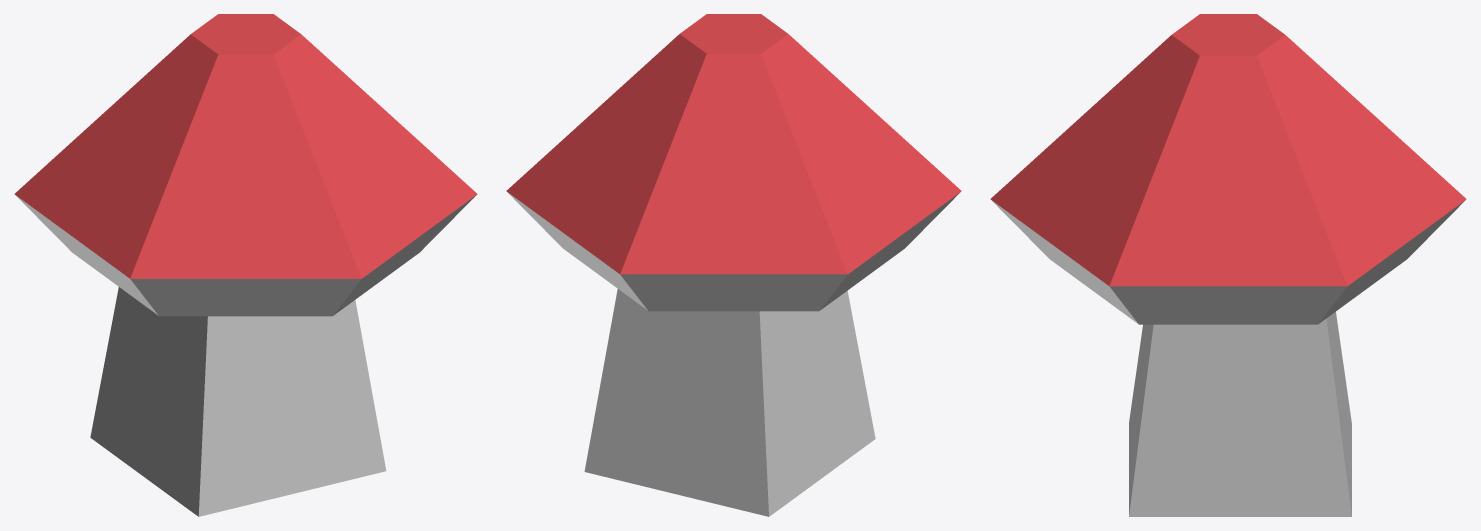
Rendered from mushroom.glb.
The picture shows the model from 3 angles, left to right: view 1: azimuth 30°, elevation 25°; view 2: azimuth 150°, elevation 25°; view 3: azimuth 270°, elevation 25°; orthographic projection. The views are drawn at different scales.
Parts seen in each view (by area): view 1: mushroom_red; view 2: mushroom_red; view 3: mushroom_red.
Boxes of the visible parts, box(x1,y1,x2,y2) form: mushroom_red: box(14, 14, 477, 516); mushroom_red: box(506, 14, 961, 516); mushroom_red: box(990, 14, 1466, 516).
Bounding box in the file's own units: 0.8698 × 1.01 × 1.
